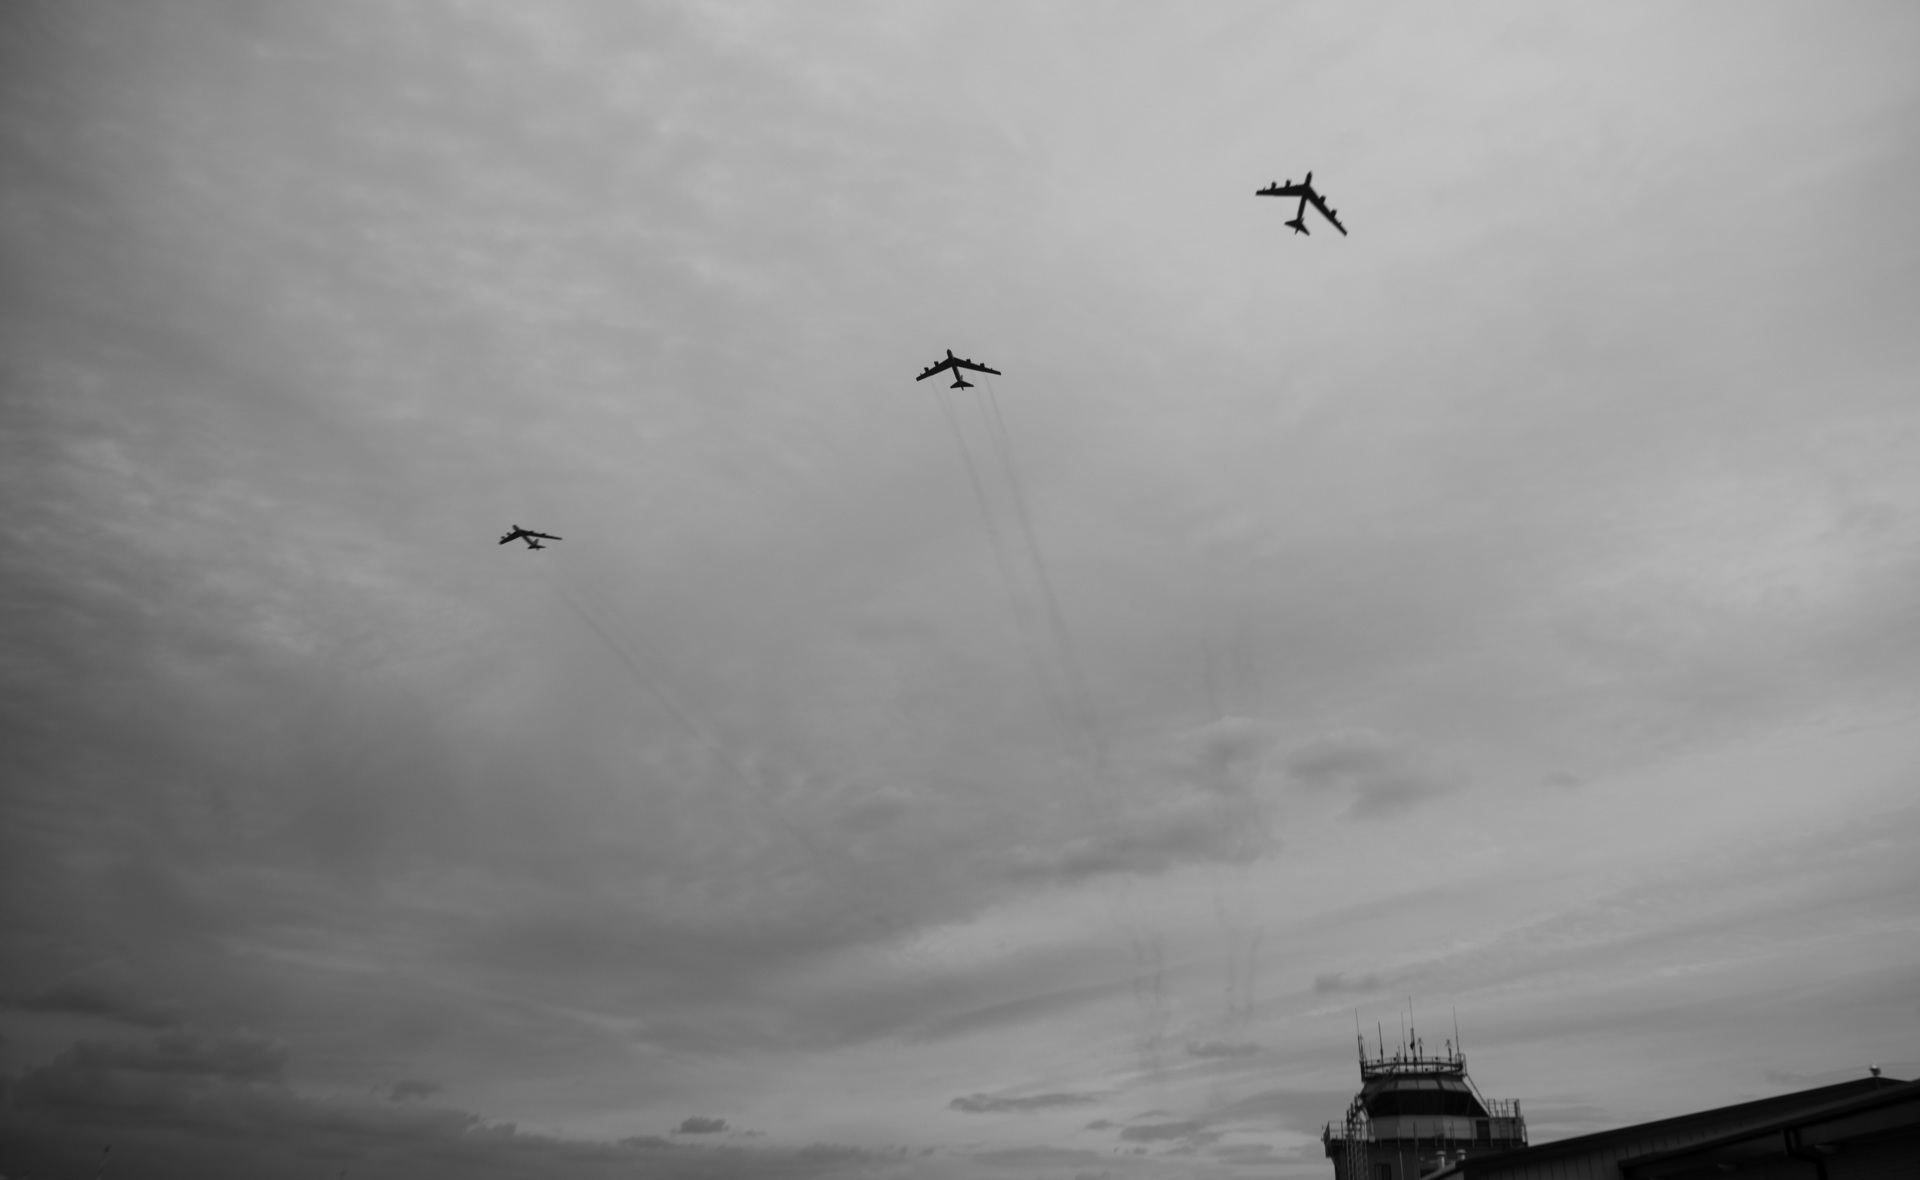B52: (1253, 170, 1348, 237), (915, 349, 1003, 391), (496, 523, 564, 552)
